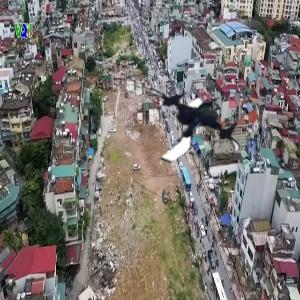drone: (141, 73, 245, 177)
